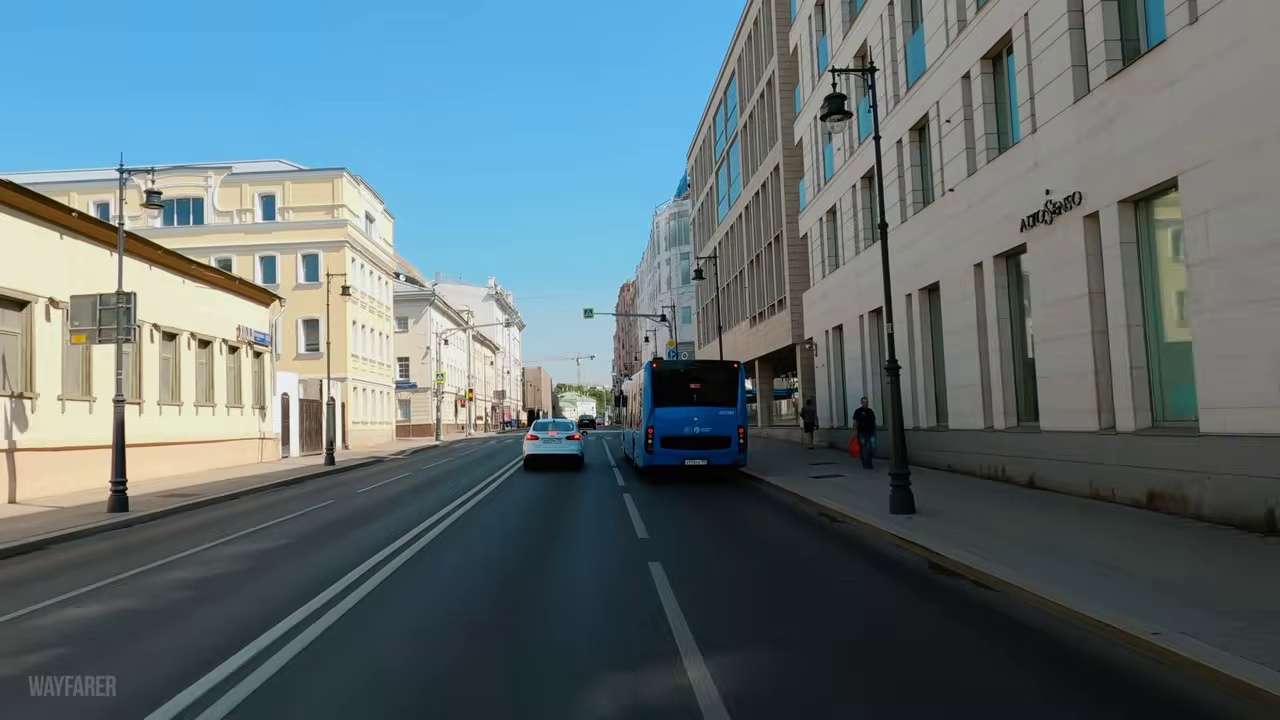apagada: (818, 92, 851, 143)
